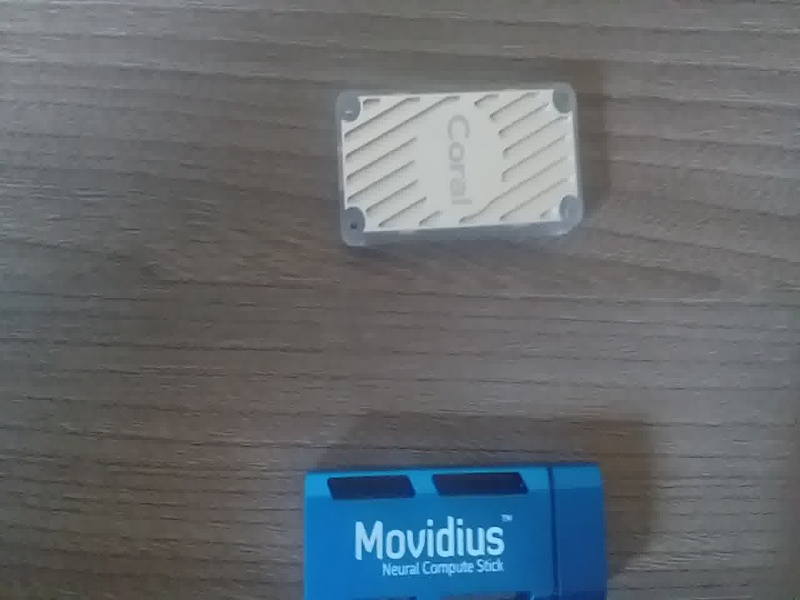coral: (322, 78, 605, 259)
movidius: (284, 443, 622, 600)
